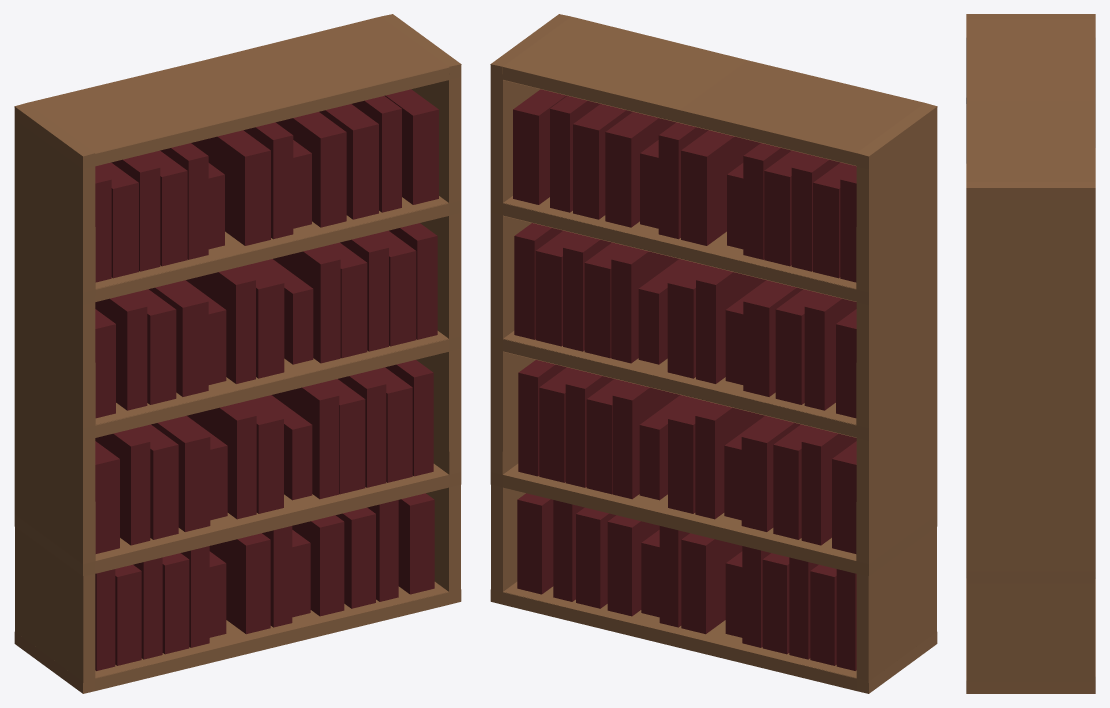
The model's file is Shelf.fbx.
The picture shows the model from 3 angles, left to right: view 1: azimuth 30°, elevation 25°; view 2: azimuth 150°, elevation 25°; view 3: azimuth 270°, elevation 25°; orthographic projection. The views are drawn at different scales.
Parts seen in each view (by area): view 1: Cube; view 2: Cube; view 3: Cube.
Part boxes in pixels (bbox=[...]): Cube: bbox=[14, 14, 461, 693]; Cube: bbox=[490, 14, 937, 693]; Cube: bbox=[966, 14, 1095, 693].
Size of the model in its own units: 641 by 871 by 202.
